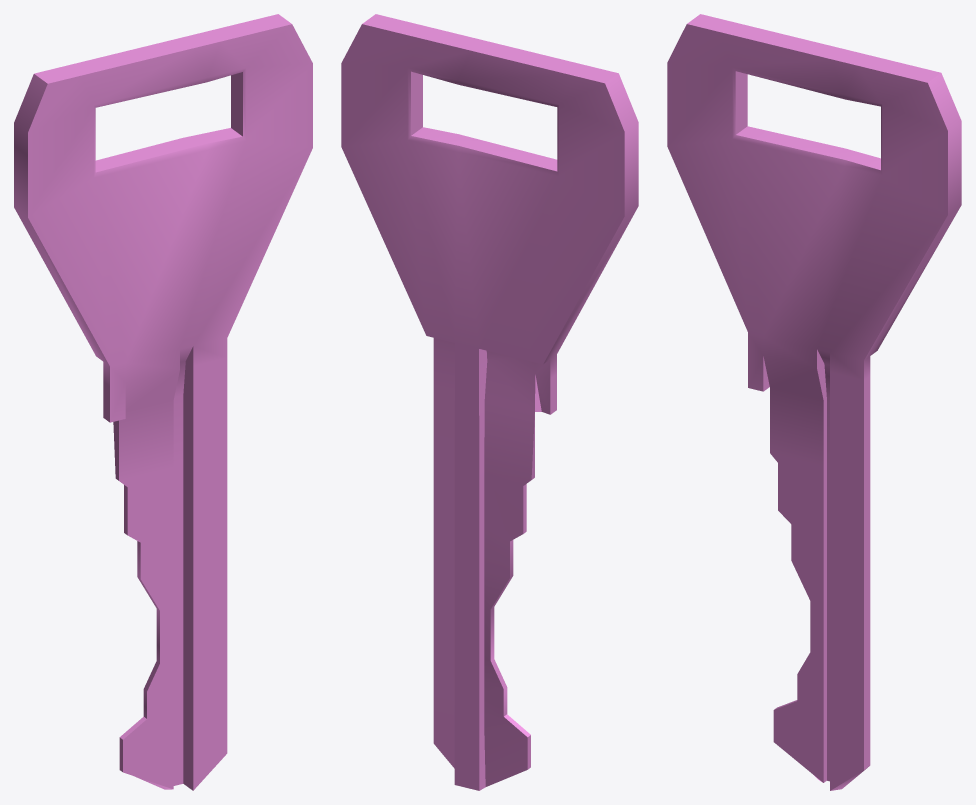
The model's file is Keys_33.FBX.
3 views of the same model, side by side, from view 1: azimuth 30°, elevation 25°; view 2: azimuth 150°, elevation 25°; view 3: azimuth 330°, elevation 25° (orthographic).
Visible parts, largest first — view 1: Keys_33; view 2: Keys_33; view 3: Keys_33.
Part boxes in pixels (x1=…): Keys_33: x1=14, y1=14, x2=312, y2=790; Keys_33: x1=341, y1=14, x2=638, y2=790; Keys_33: x1=667, y1=14, x2=961, y2=790.
Size of the model in its own units: 0.7899 by 1.97 by 0.0666.
